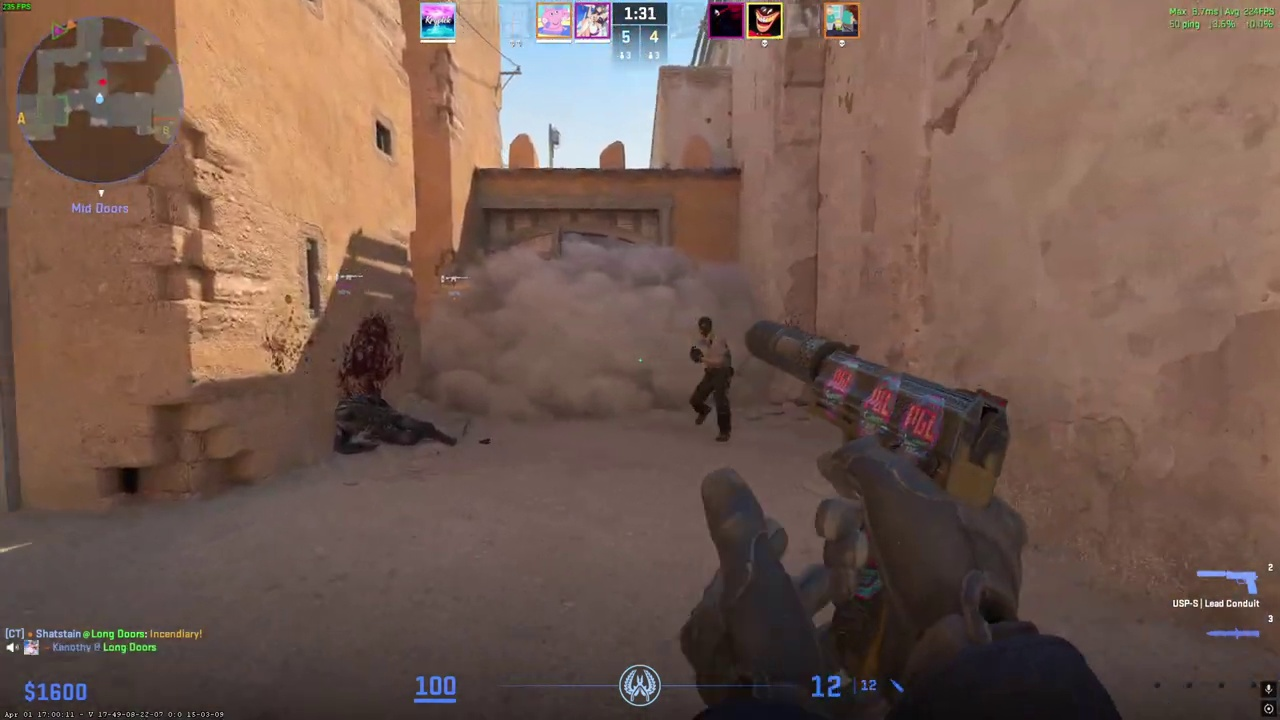Terrorist: (688, 316, 736, 443)
